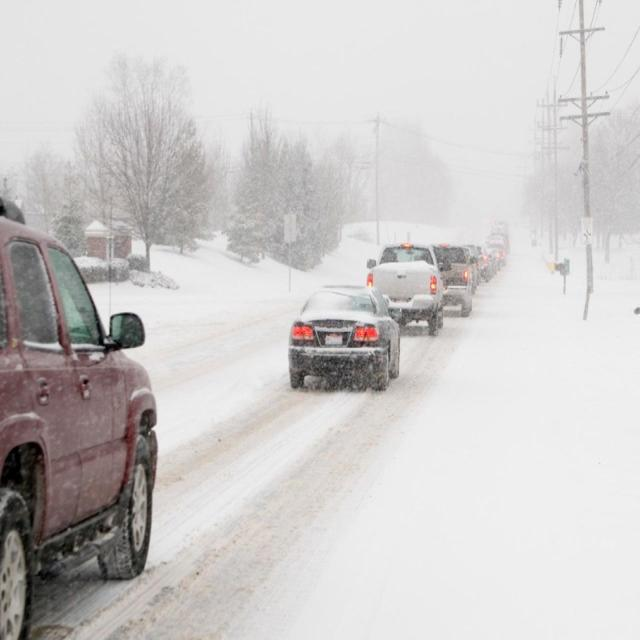Car: (0, 155, 172, 639), (272, 271, 394, 394), (369, 219, 437, 349), (431, 226, 469, 325)
